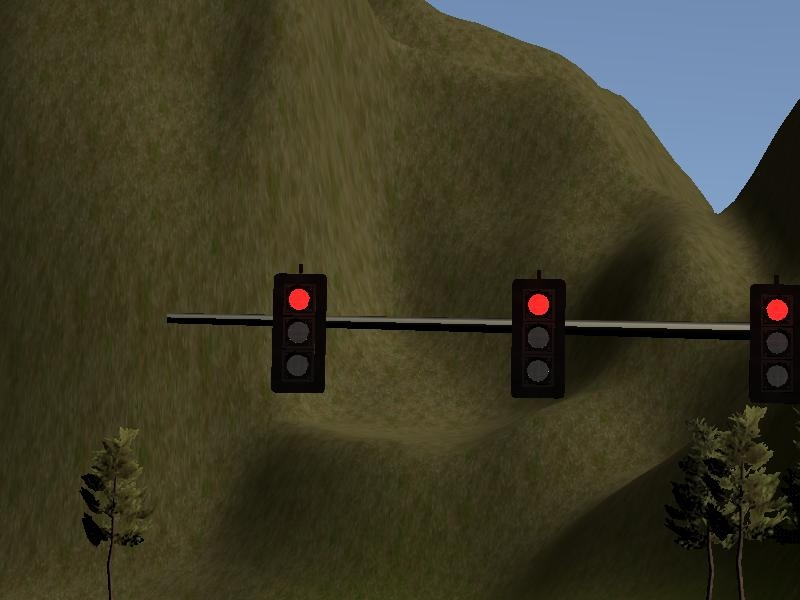RED: (747, 282, 800, 402), (272, 275, 324, 390), (514, 279, 566, 394)
